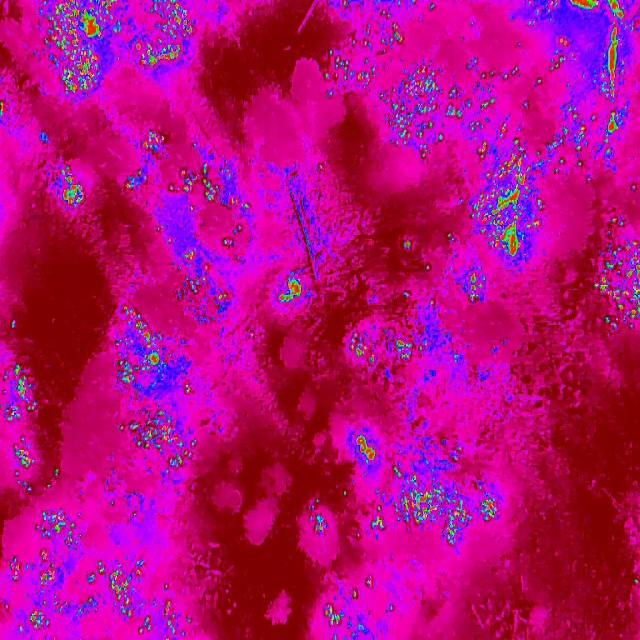fire: (0, 405, 208, 640), (298, 432, 512, 556), (525, 0, 640, 180), (376, 48, 524, 160), (39, 0, 194, 98), (463, 141, 557, 270), (121, 136, 259, 216), (160, 227, 266, 321), (110, 304, 196, 397), (318, 0, 404, 91), (588, 206, 640, 339), (0, 317, 50, 432), (312, 576, 392, 632), (342, 316, 414, 374), (46, 163, 91, 219), (276, 266, 310, 312), (0, 99, 8, 119)
